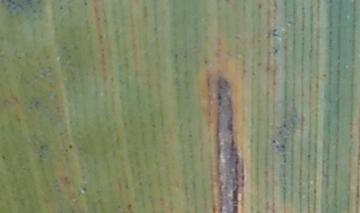tarspot: (125, 202, 135, 213), (172, 51, 181, 63), (98, 31, 106, 42), (80, 185, 89, 194), (271, 27, 279, 37), (215, 90, 221, 101), (57, 3, 65, 11), (271, 47, 279, 55), (202, 57, 209, 66), (279, 142, 286, 150), (1, 153, 8, 161), (304, 152, 312, 159), (256, 59, 263, 66), (257, 2, 262, 10), (270, 138, 276, 144), (281, 121, 287, 127), (321, 72, 327, 78), (83, 1, 88, 7), (67, 142, 72, 148)
